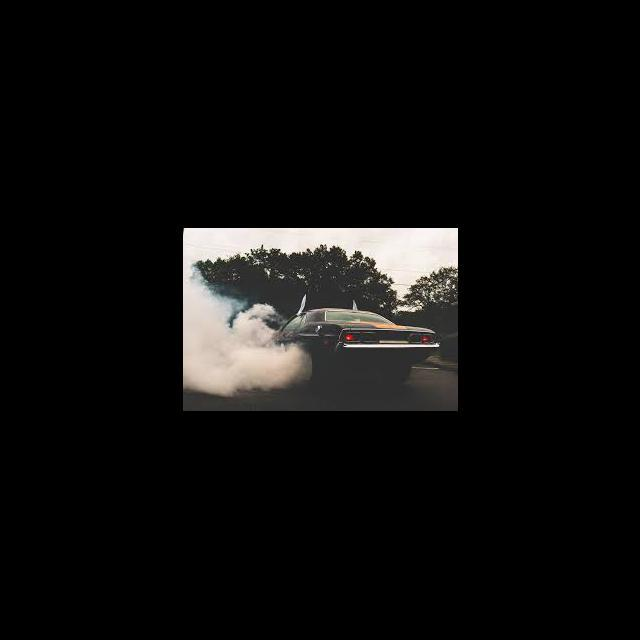Smoke: (184, 258, 313, 400)
